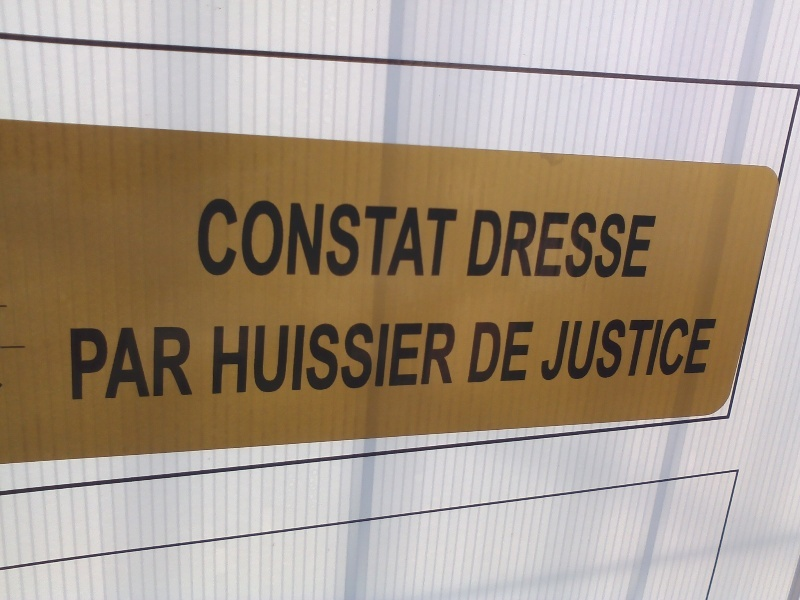text: (209, 197, 224, 277), (225, 197, 240, 277), (241, 197, 256, 277), (257, 197, 272, 277), (273, 197, 288, 277), (289, 197, 304, 277), (305, 197, 320, 277), (321, 197, 336, 277), (337, 197, 352, 277), (353, 197, 368, 277), (369, 197, 384, 277), (385, 197, 400, 277), (401, 197, 416, 277), (417, 197, 432, 277), (433, 197, 448, 277), (81, 325, 96, 401), (97, 325, 112, 401), (113, 325, 128, 401), (129, 325, 144, 401), (145, 325, 160, 401), (161, 325, 176, 401), (177, 325, 192, 401), (225, 322, 240, 395), (241, 322, 256, 395), (257, 322, 272, 395), (273, 322, 288, 395), (289, 322, 304, 395), (305, 322, 320, 395), (321, 322, 336, 395), (337, 322, 352, 395), (353, 322, 368, 395), (369, 322, 384, 395), (385, 322, 400, 395), (401, 322, 416, 395), (417, 322, 432, 395), (433, 322, 448, 395), (481, 209, 496, 278), (497, 209, 512, 278), (513, 209, 528, 278), (529, 209, 544, 278), (545, 209, 560, 278), (561, 209, 576, 278), (577, 209, 592, 278), (593, 209, 608, 278), (609, 209, 624, 278), (625, 209, 640, 278), (641, 209, 656, 278), (449, 197, 461, 277), (481, 320, 496, 384), (497, 320, 512, 384), (513, 320, 528, 384), (561, 318, 576, 381), (577, 318, 592, 381), (593, 318, 608, 381), (609, 318, 624, 381), (625, 318, 640, 381), (641, 318, 656, 381), (657, 318, 672, 381), (673, 318, 688, 381), (689, 318, 704, 381), (69, 325, 80, 401), (705, 318, 718, 381), (214, 322, 224, 395), (199, 197, 208, 277), (549, 318, 560, 381), (449, 322, 458, 395), (529, 320, 536, 384), (474, 320, 480, 384), (475, 209, 480, 278), (193, 325, 194, 401), (657, 209, 658, 278)
